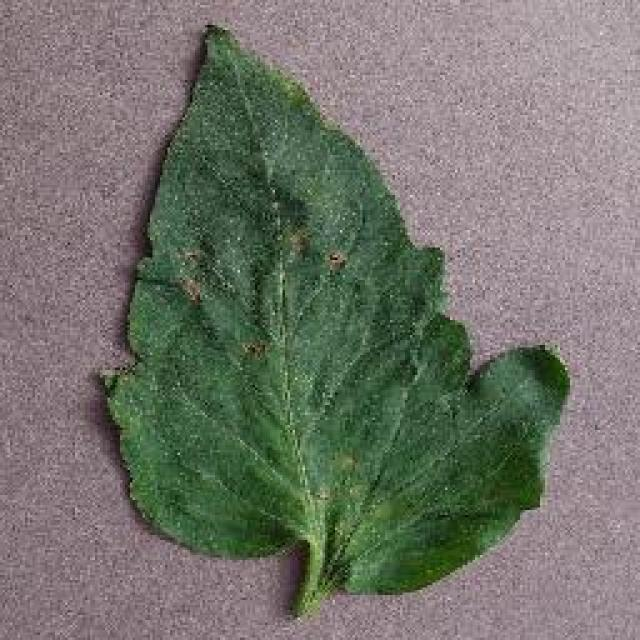Tomato___Target_Spot: (102, 25, 568, 612)
